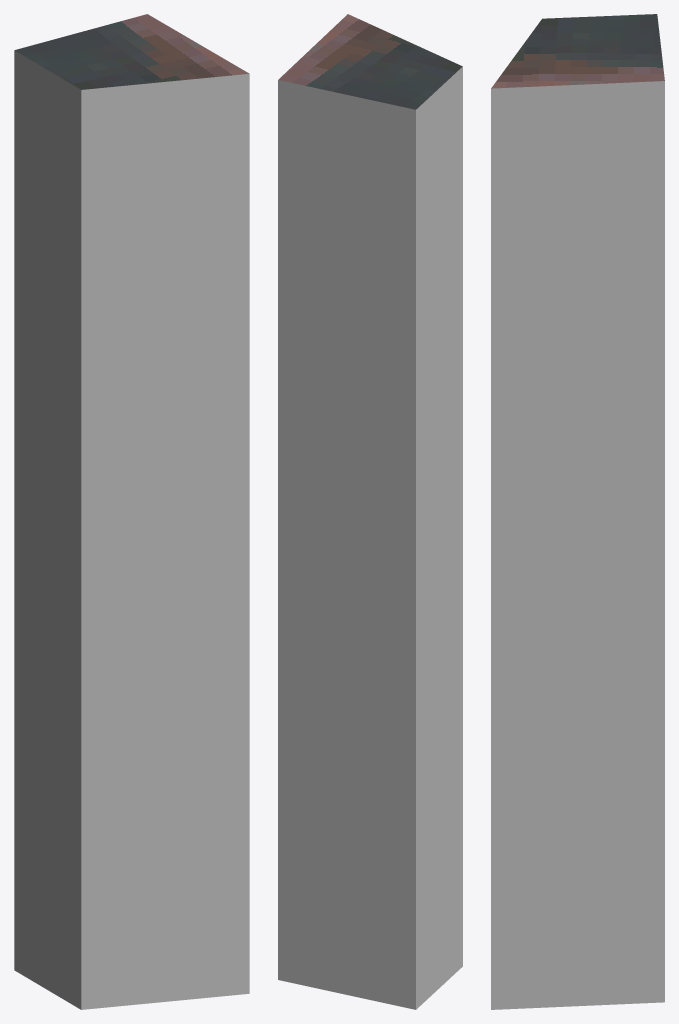
Rendered from DEBW_0010007THvH.gltf.
3 renders of one model, left to right at view 1: azimuth 30°, elevation 25°; view 2: azimuth 150°, elevation 25°; view 3: azimuth 270°, elevation 25°, orthographic. The views are drawn at different scales.
Visible parts, largest first — view 1: Z_UP; view 2: Z_UP; view 3: Z_UP.
Boxes of the visible parts, bbox=[...] form: Z_UP: bbox=[14, 14, 249, 1009]; Z_UP: bbox=[278, 14, 462, 1009]; Z_UP: bbox=[491, 14, 664, 1009].
Bounding box in the file's own units: 2.07 × 11.93 × 2.04.
Materials: 2 (1 with a texture image).
